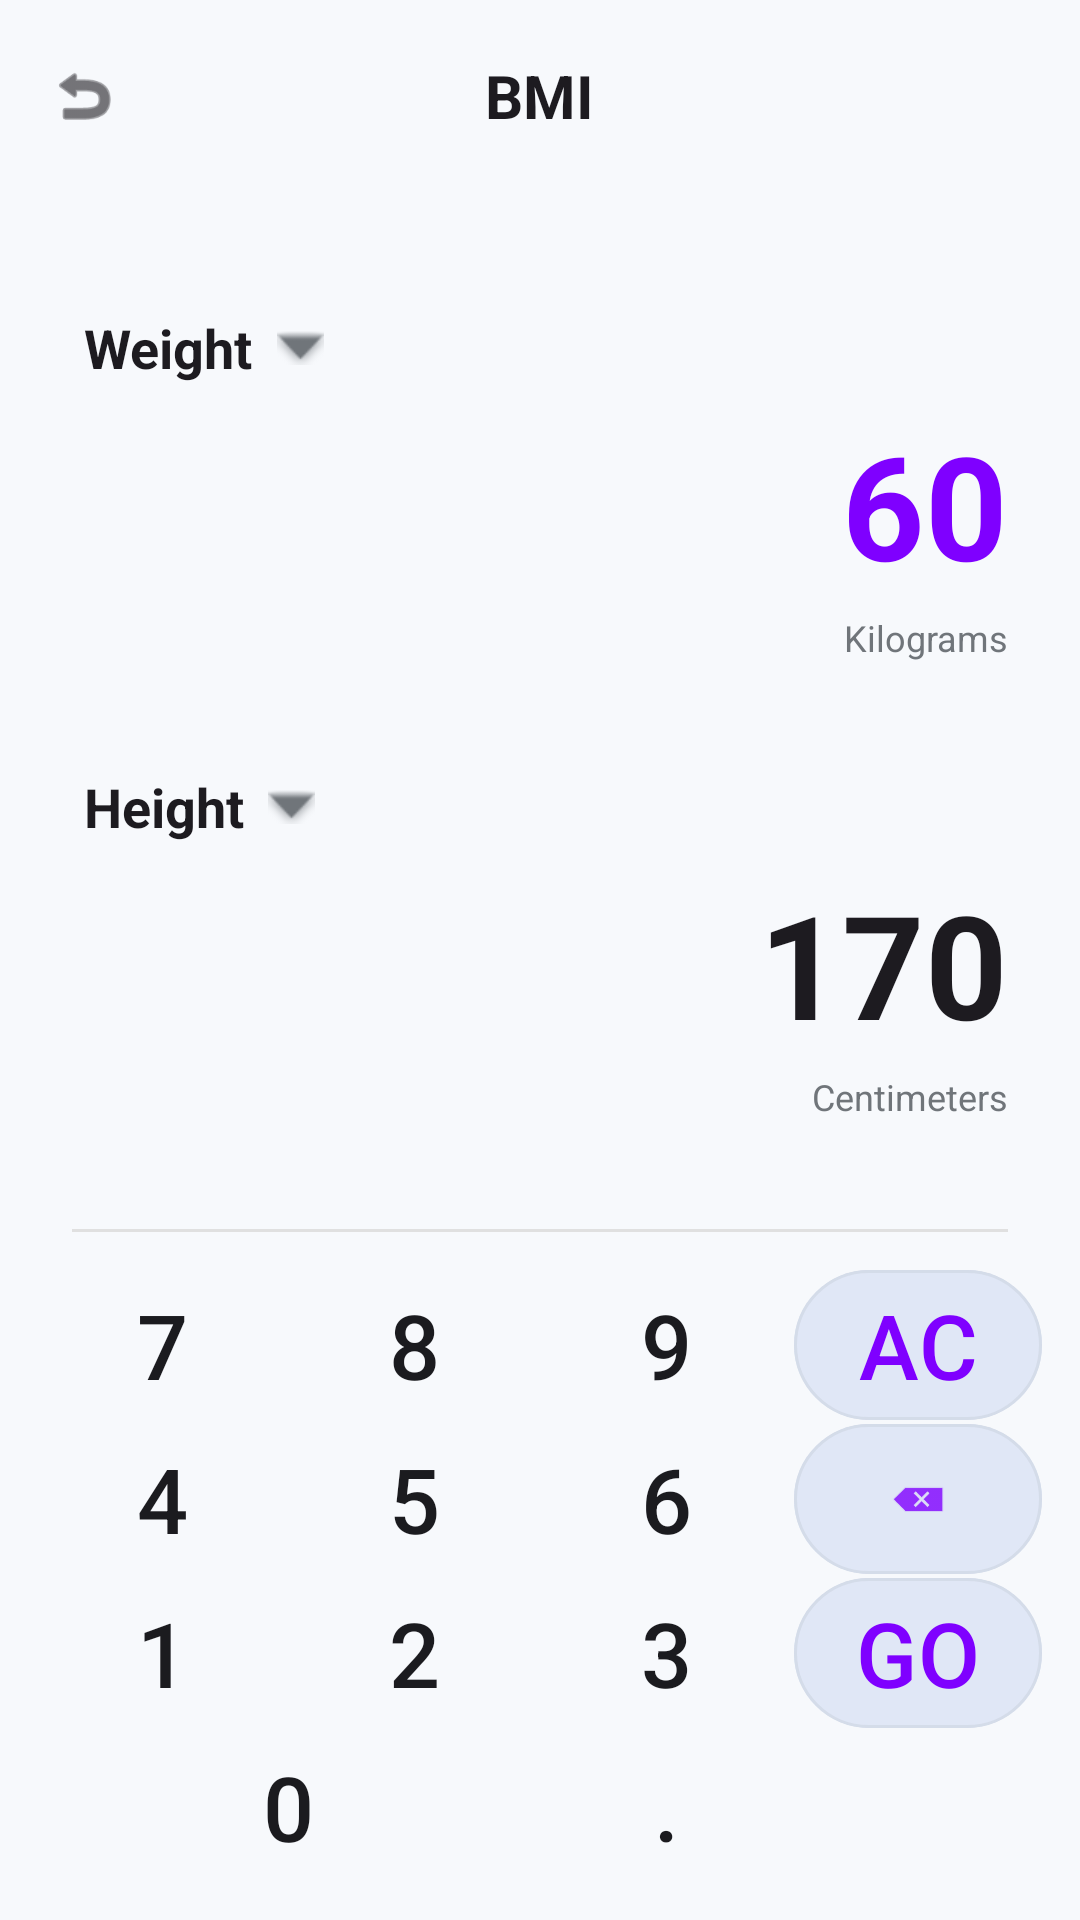

Icon click points for this 1080x1920 phone screenshot, format (x=x, y=y):
delete: (x=918, y=1499)
revert: (x=85, y=96)
